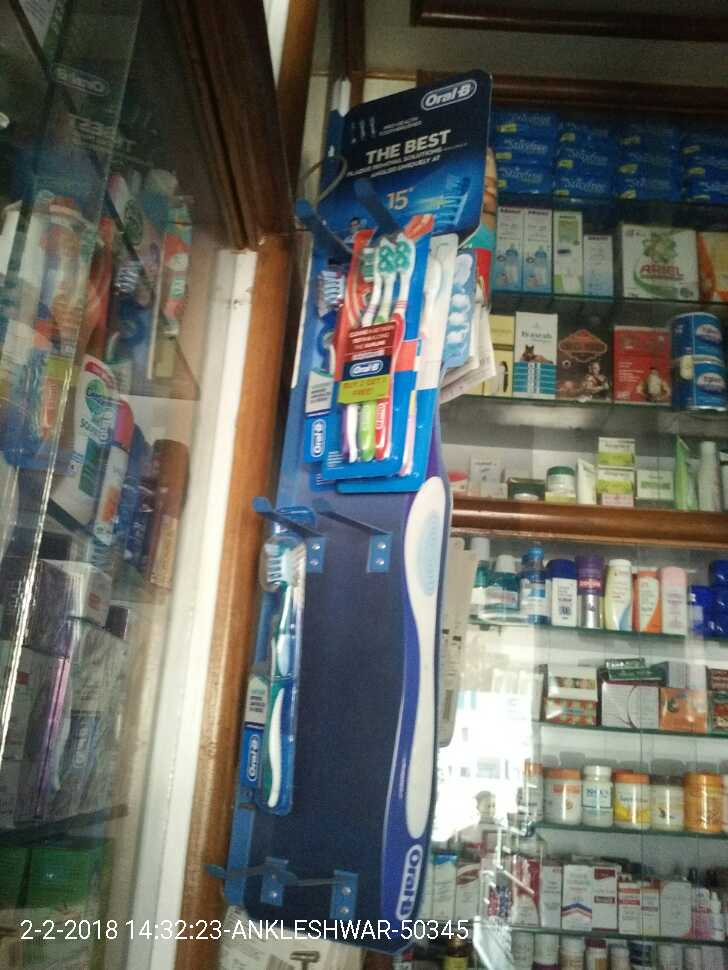oralb: (339, 236, 416, 457), (254, 543, 301, 817)
